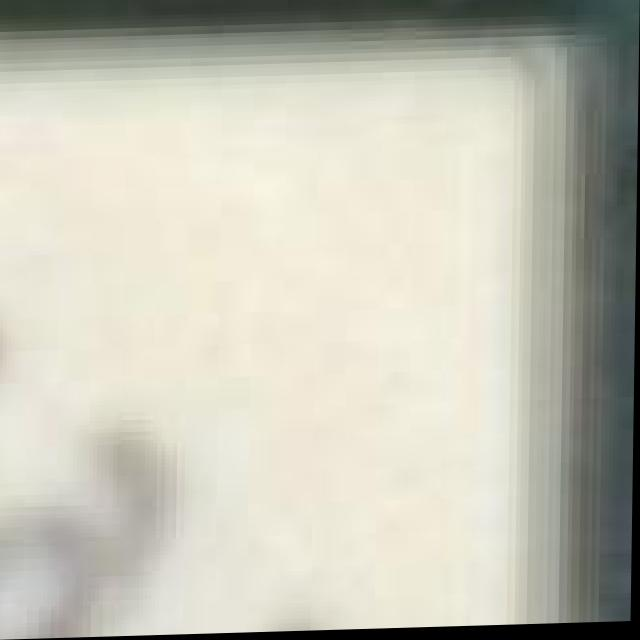potentiometer: (0, 10, 588, 640)
